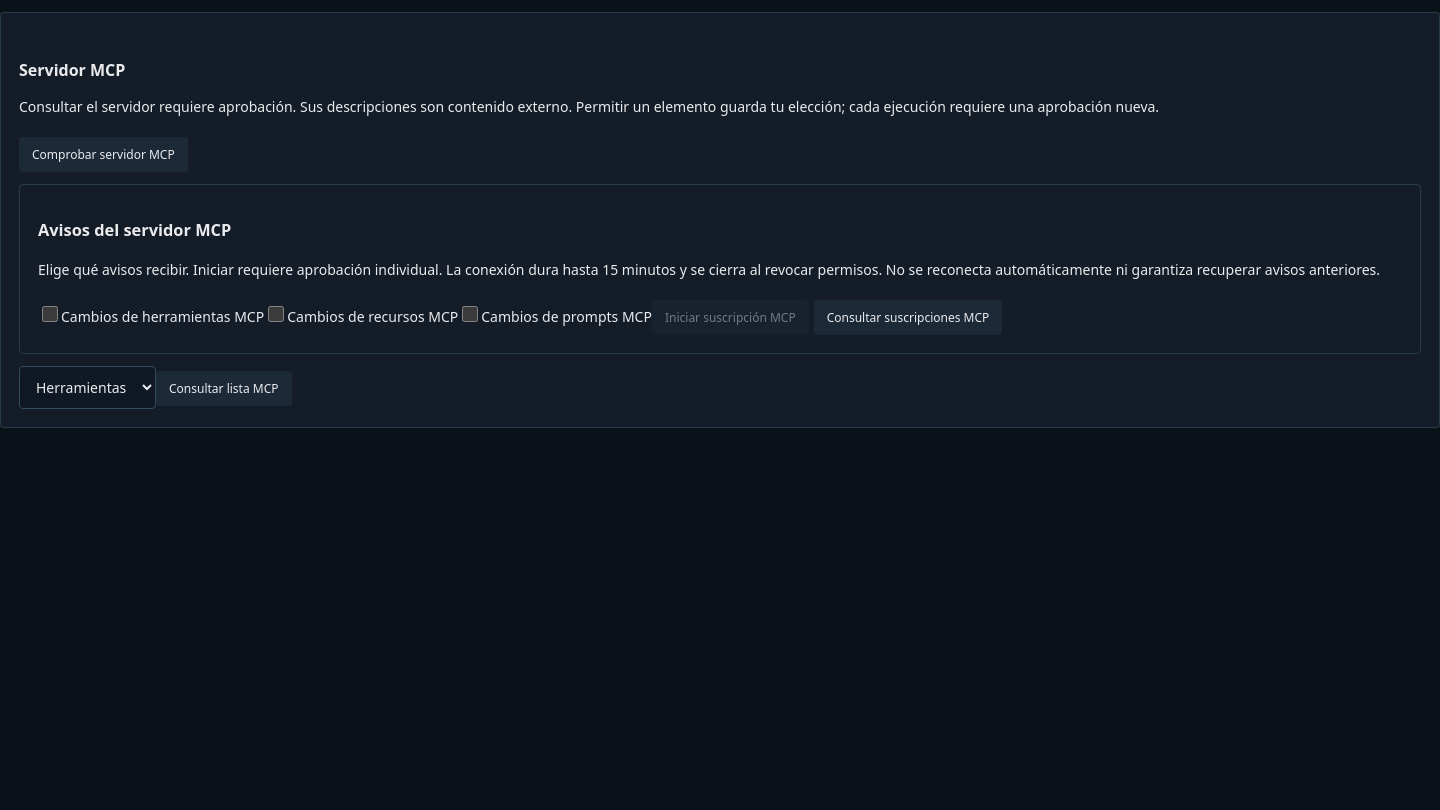
it: allowing a subject saves exact local authority and clears stale observations
The image size is (1440, 810).
Click the button "Consultar lista MCP".
click(224, 388)  # box [156,371,292,406]
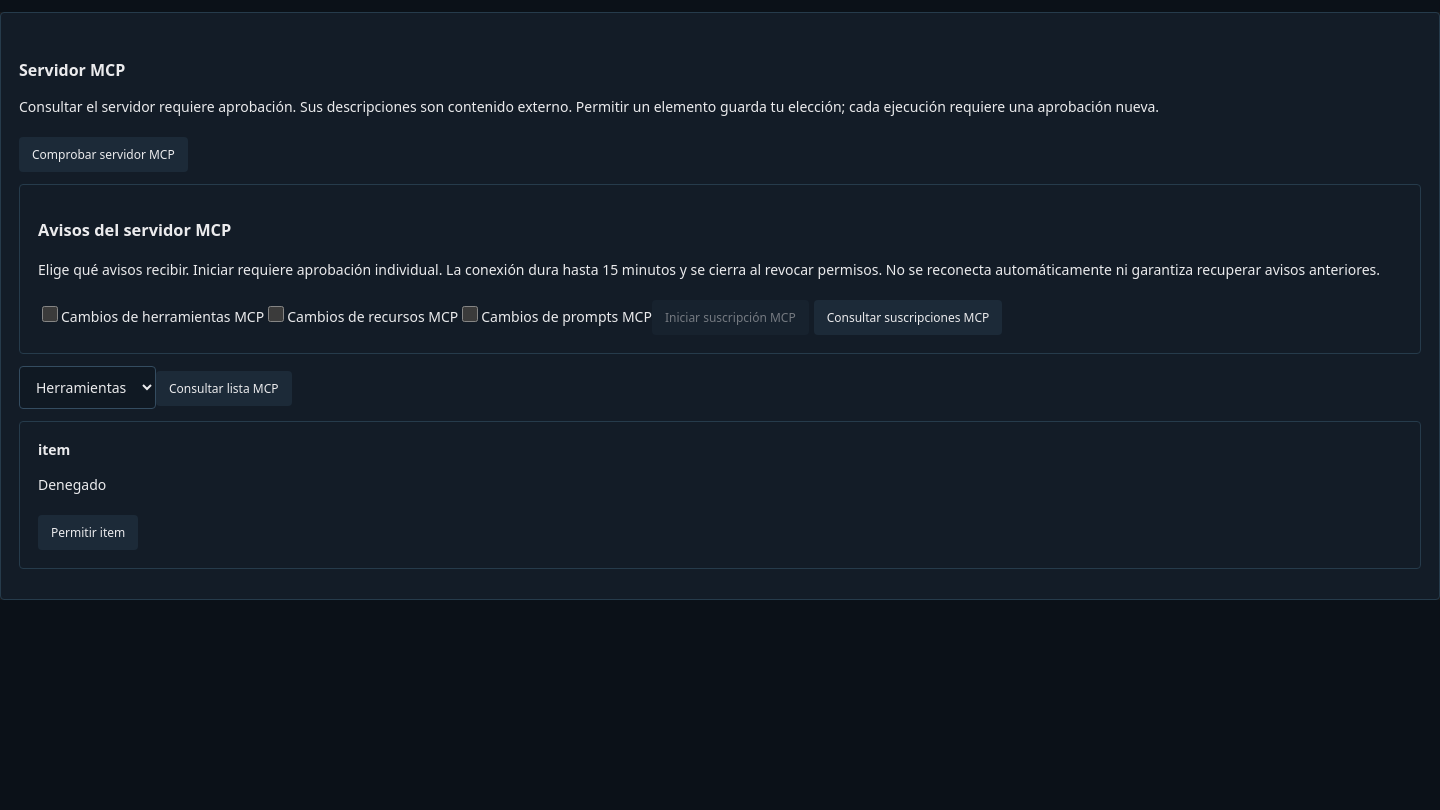
Click the button "Permitir item".
click(88, 532)  # box [38,515,138,550]
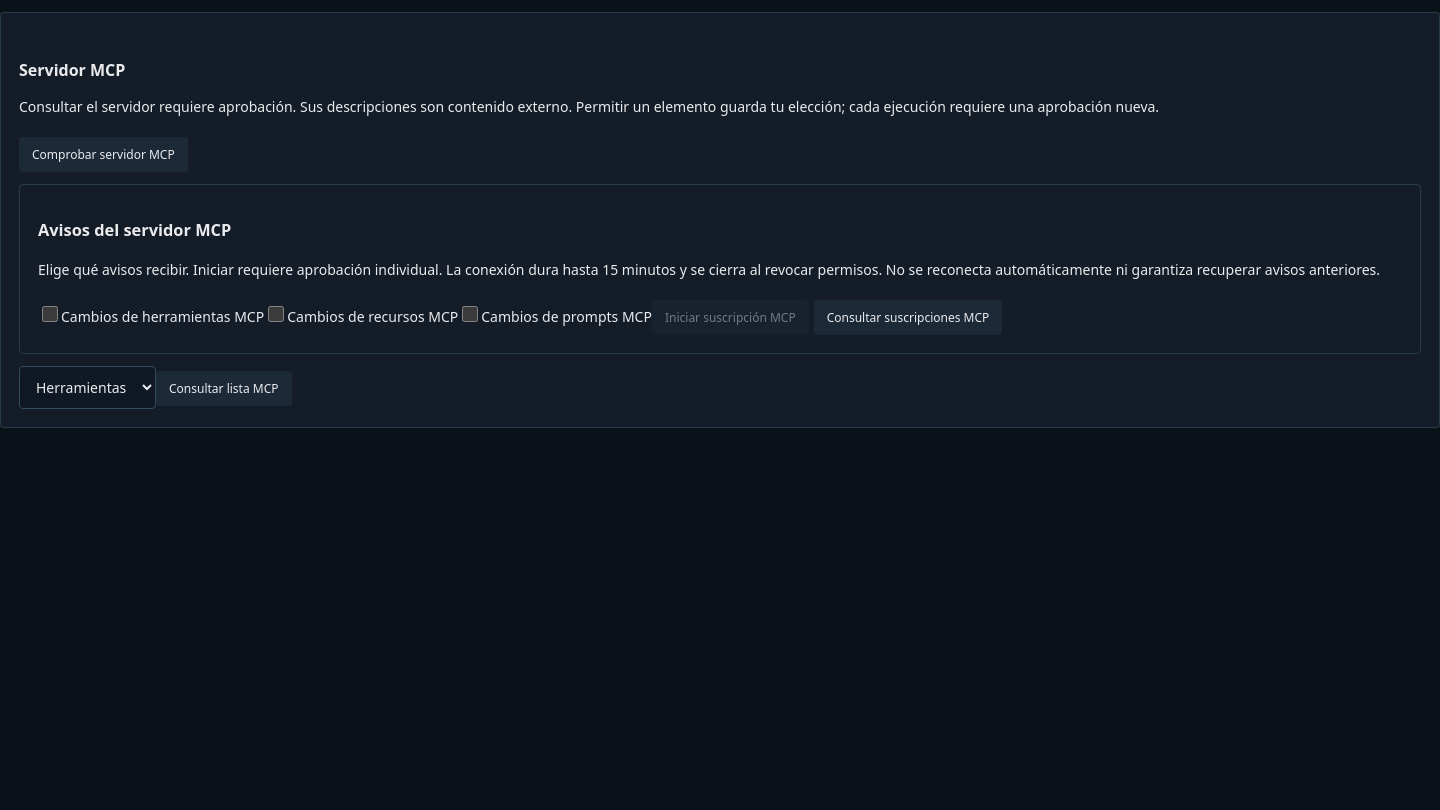
Result: the button "Permitir item" is gone
